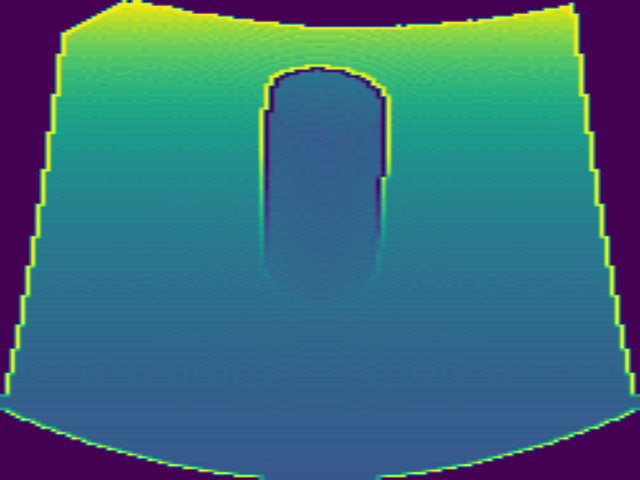cylinder: (256, 66, 391, 306)
